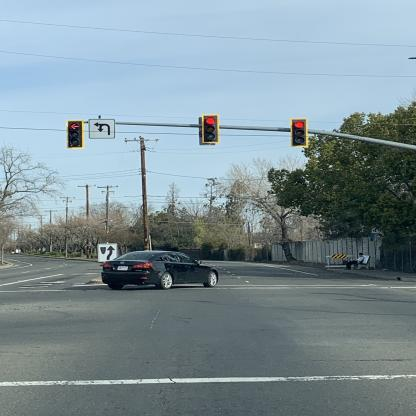left-red: (68, 121, 82, 147)
red: (204, 115, 218, 142), (293, 119, 306, 146)
